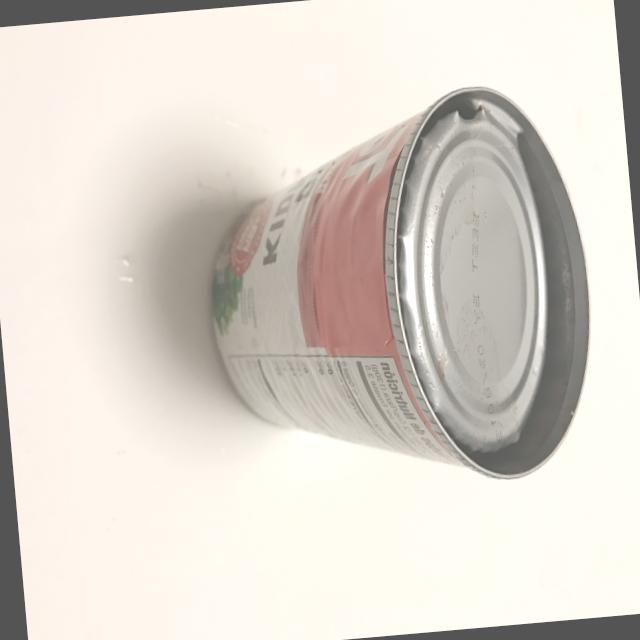Metal: (172, 60, 616, 512)
